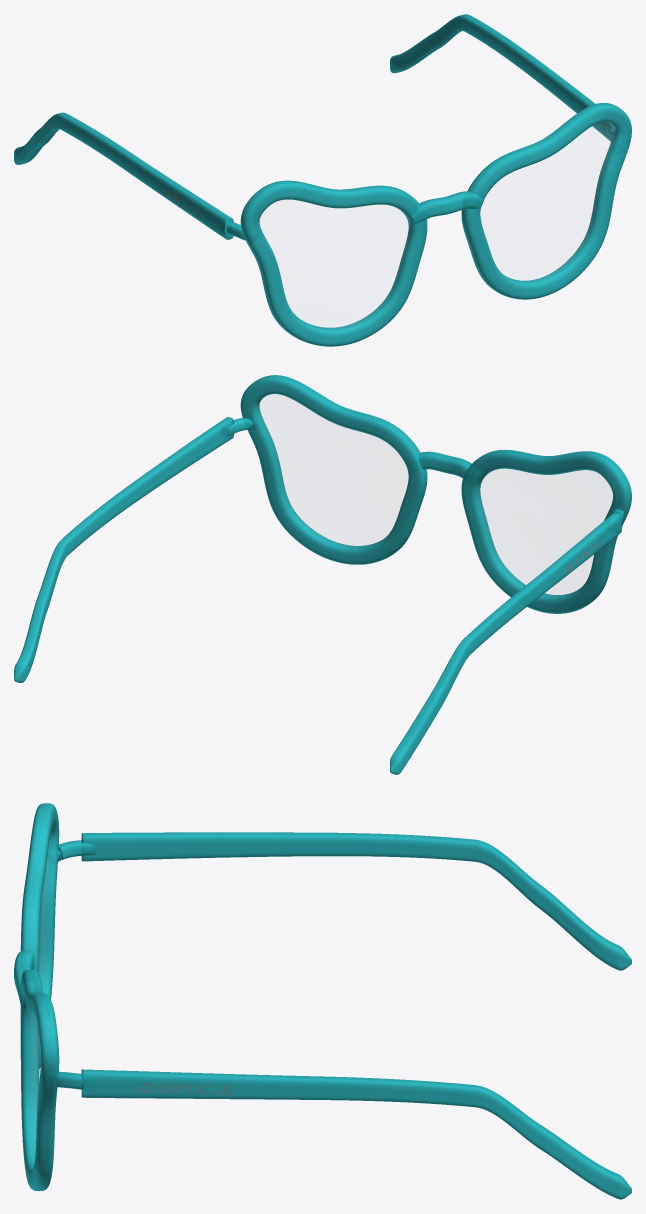
File: prod-r3.glb
3 renders of one model, top to bottom at view 1: azimuth 30°, elevation 25°; view 2: azimuth 150°, elevation 25°; view 3: azimuth 270°, elevation 25°, orthographic. The views are drawn at different scales.
Visible parts, largest first — view 1: Frame rim -1, Frame rim 1, Temple -1, Temple 1, Bridge; view 2: Frame rim 1, Frame rim -1, Temple -1, Temple 1, Bridge; view 3: Temple 1, Temple -1, Frame rim 1, Frame rim -1, Hinge -1, Bridge.
Boxes of the visible parts, x1,y1,x2,y2 form: Frame rim -1: (240, 180, 427, 346); Frame rim 1: (461, 103, 631, 299); Temple -1: (14, 112, 233, 239); Temple 1: (390, 14, 612, 141); Bridge: (411, 191, 484, 224); Frame rim 1: (240, 375, 427, 564); Frame rim -1: (461, 449, 631, 613); Temple -1: (390, 511, 622, 774); Temple 1: (14, 417, 233, 682); Bridge: (418, 451, 471, 478); Temple 1: (81, 1069, 631, 1199); Temple -1: (81, 832, 631, 970); Frame rim 1: (20, 969, 59, 1190); Frame rim -1: (20, 803, 59, 1068); Hinge -1: (58, 840, 96, 861); Bridge: (14, 950, 34, 1006).
Size of the model in its own units: 0.136 by 0.0547 by 0.1415.
